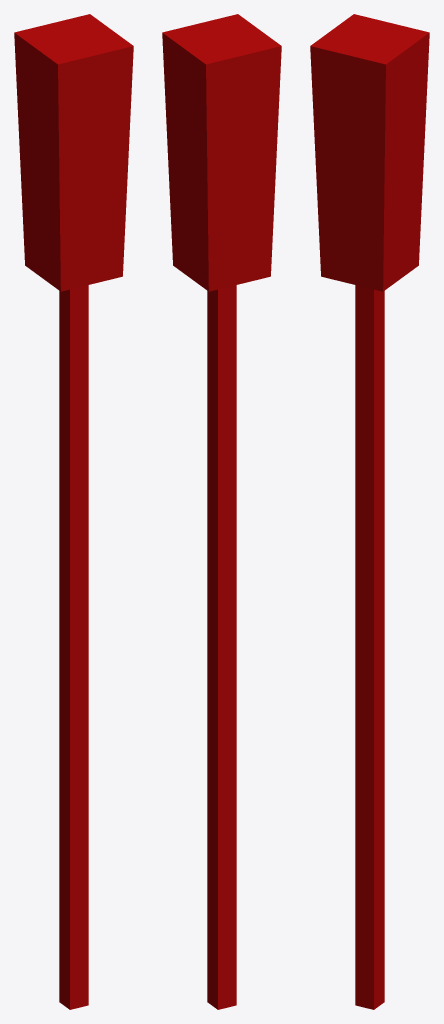
File: SM_Prop_Tiki_Torch_02_Collision.gltf
3 views of the same model, side by side, from view 1: azimuth 30°, elevation 25°; view 2: azimuth 210°, elevation 25°; view 3: azimuth 330°, elevation 25° (orthographic).
Parts seen in each view (by area): view 1: SM_Prop_Tiki_Torch_02_Collision; view 2: SM_Prop_Tiki_Torch_02_Collision; view 3: SM_Prop_Tiki_Torch_02_Collision.
Part boxes in pixels (x1,y1,x2,y2): SM_Prop_Tiki_Torch_02_Collision: (14, 14, 133, 1009); SM_Prop_Tiki_Torch_02_Collision: (162, 14, 281, 1009); SM_Prop_Tiki_Torch_02_Collision: (310, 14, 429, 1009).
Bounding box in the file's own units: 0.1895 × 2.3 × 0.1895.
